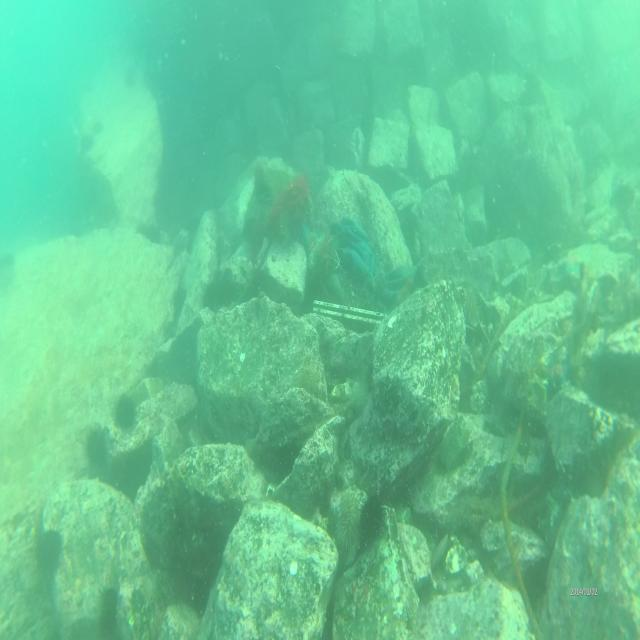echinus: (359, 487, 388, 548), (339, 483, 364, 548), (34, 527, 64, 574), (298, 362, 324, 405), (112, 390, 138, 432), (100, 584, 124, 628), (86, 424, 109, 468)
starfish: (546, 354, 572, 391)
